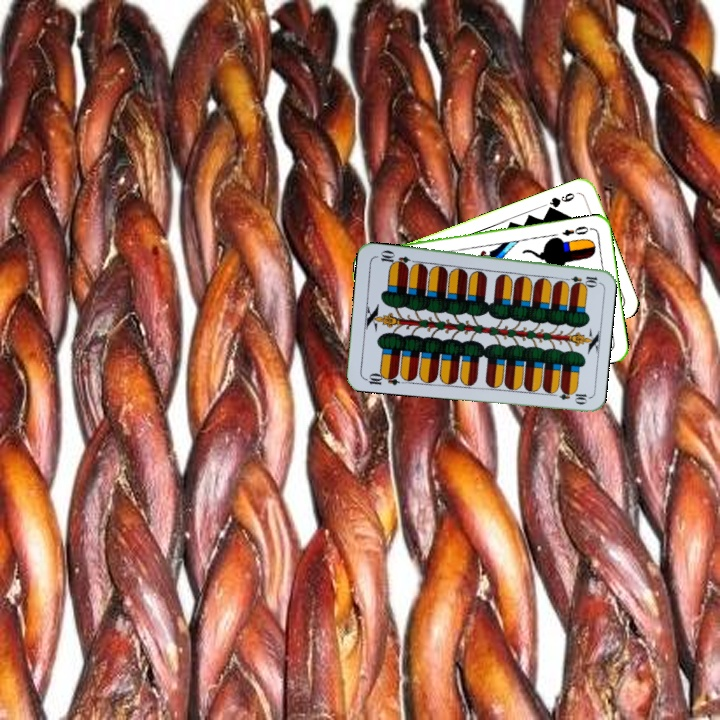E10: (361, 368, 401, 388), (559, 272, 600, 287)
EO: (558, 222, 591, 238)
G9: (544, 188, 577, 214)
